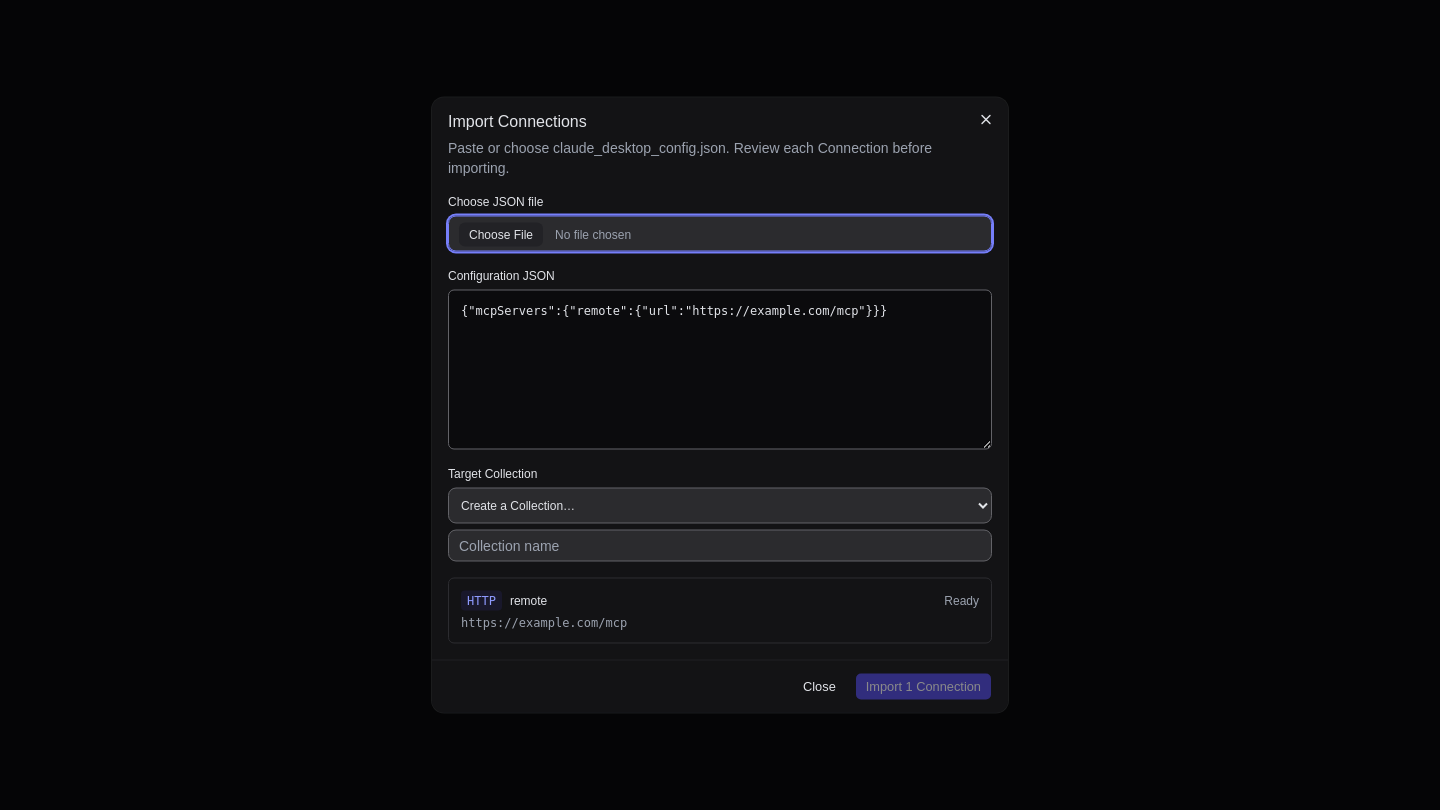
it: creates a Collection from a chosen file and reports save failures without claiming success
This screenshot has width=1440, height=810.
Earlier steps of the test are not shown.
Type "From file" into the field named "New Collection name". click: (720, 546)
box: [448,530,992,562]
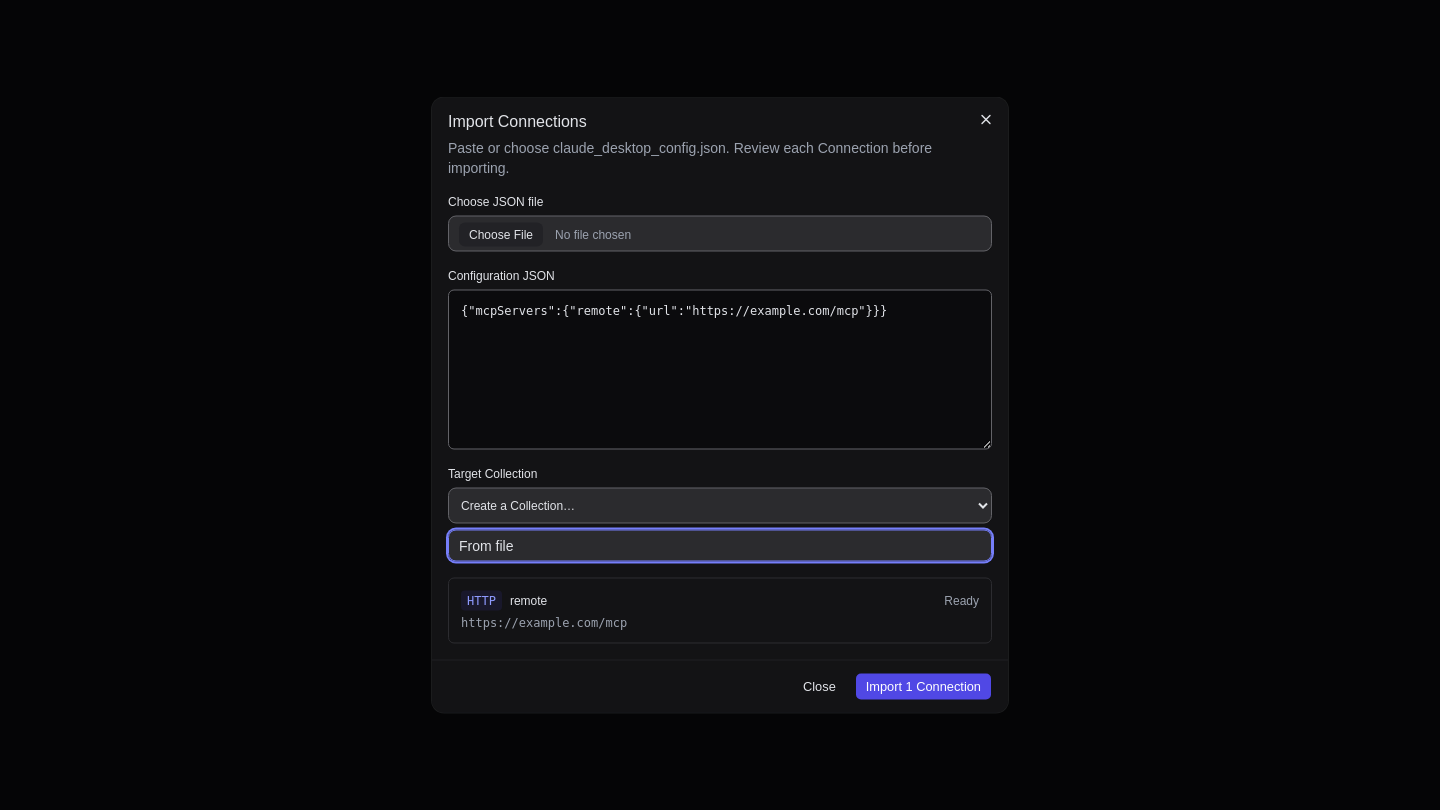
Click the button "Import 1 Connection". click: (923, 686)
box: [855,672,992,700]
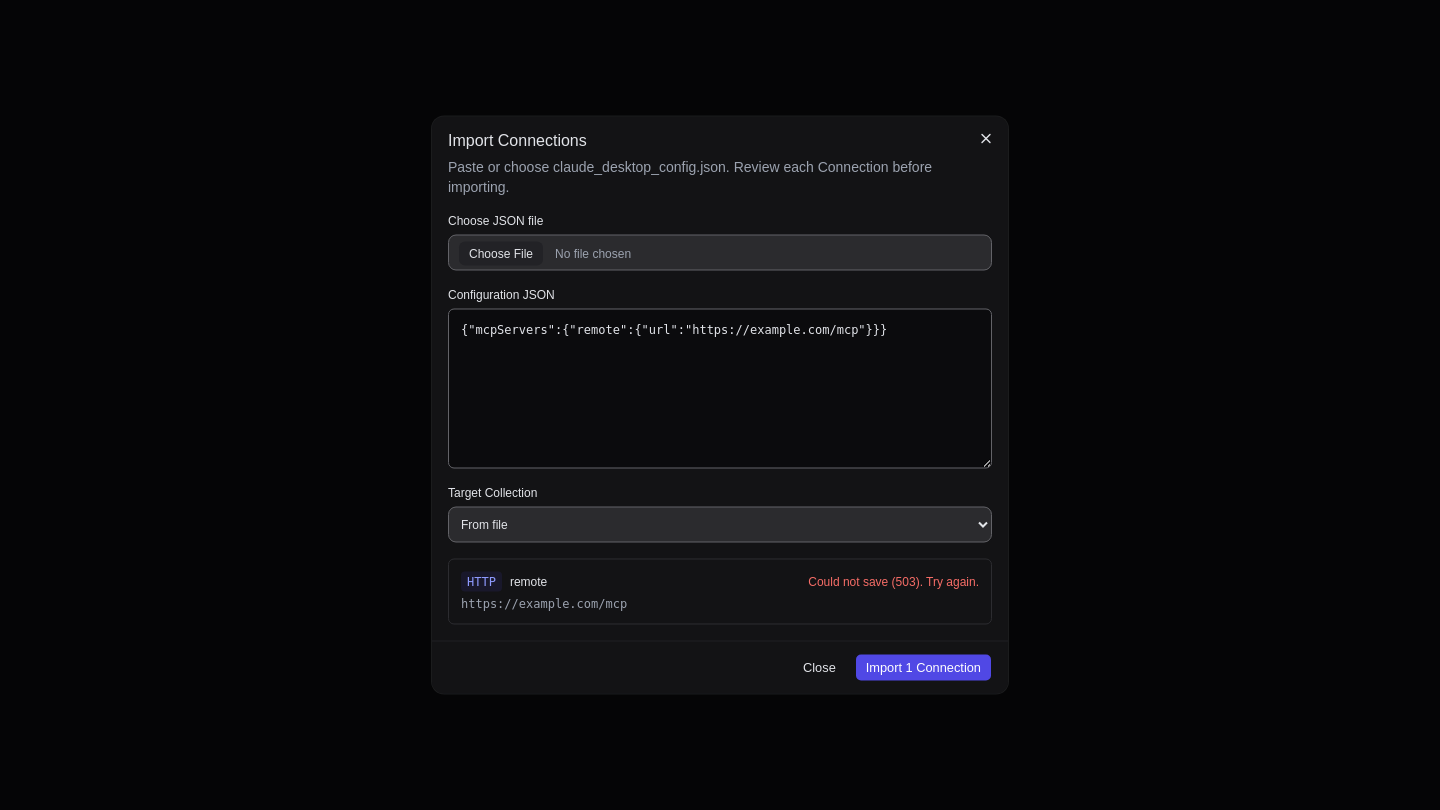
Expected: the button "Import 1 Connection" is enabled, [855,654,992,682]
Expected: the text "Could not save (503). Try again." is shown, [808,574,979,590]
